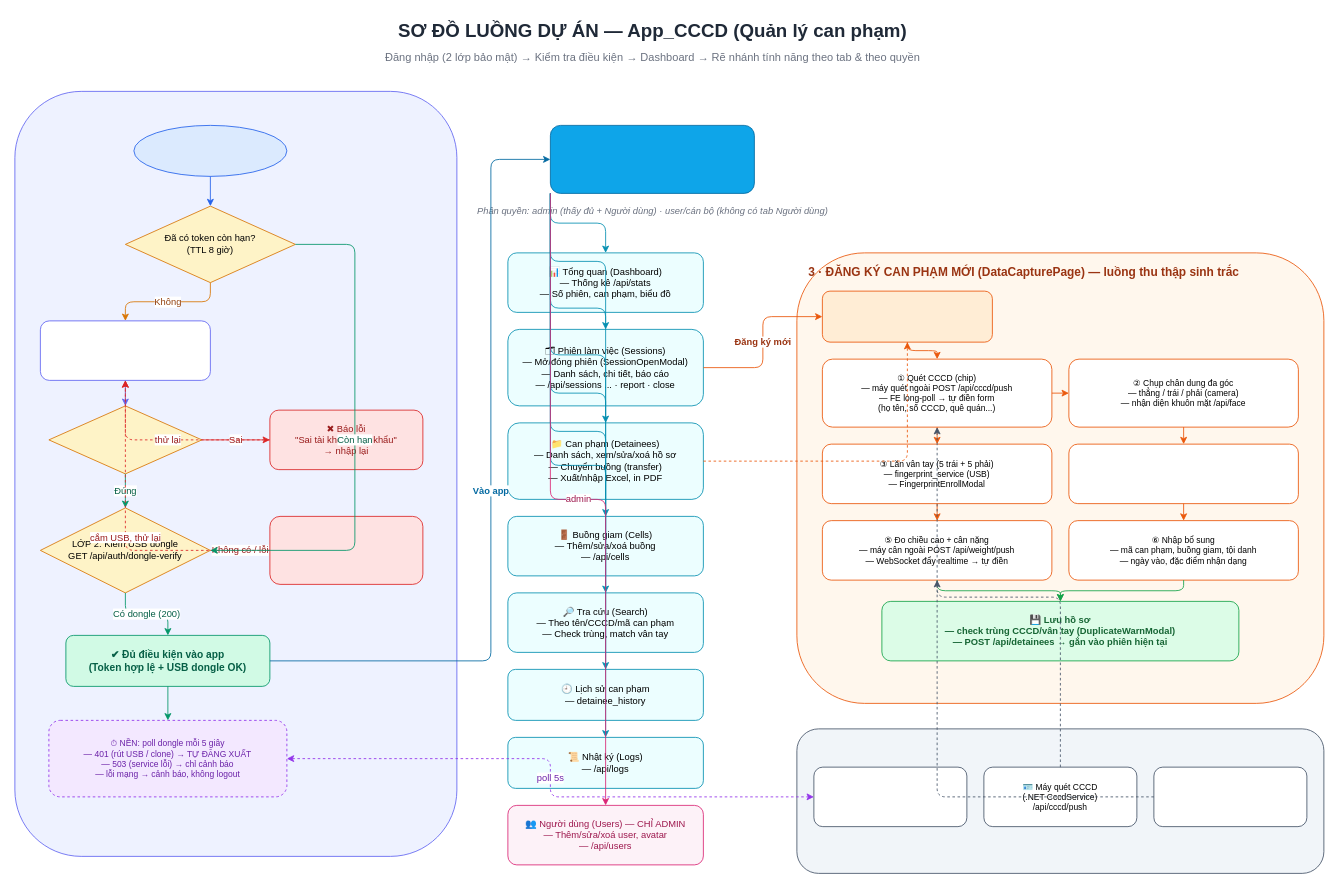
This 1339x888 diagram has some shape labels left out. Each missing label, with the box of its shape:
1 · ĐĂNG NHẬP & ĐIỀU KIỆN VÀO APP: (14, 91, 457, 856)
2 · DASHBOARD (sau khi vào app): (550, 125, 754, 193)
Bấm "Đăng ký can phạm" (từ tab Phiên / Can phạm): (822, 290, 992, 342)
Màn hình đăng nhập — Nhập Username + Password — POST /api/auth/login: (40, 320, 210, 380)
Mở app http://localhost:5173: (133, 125, 287, 176)
THIẾT BỊ / DỊCH VỤ NGOÀI (LAN nội bộ): (796, 728, 1324, 873)
Đúng tài khoản / mật khẩu?: (48, 405, 202, 474)
④ Chụp mống mắt — iris trái / phải: (1068, 443, 1298, 504)
⚖ Máy cân + đo cao /api/weight/push WebSocket realtime: (1153, 766, 1307, 827)
✖ Chưa cắm USB dongle (hoặc USB service lỗi 503) → auth.clear() + báo lỗi: (269, 516, 423, 584)
🔑 USB dongle usb_service :8766 bảo mật đăng nhập: (813, 766, 967, 827)
